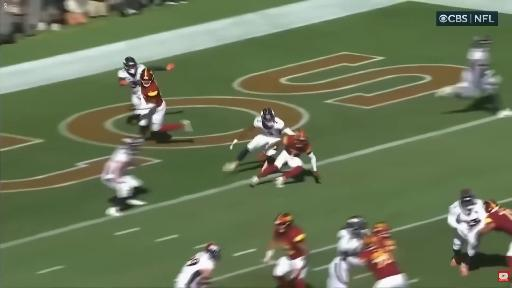Helmet: (346, 216, 367, 237), (459, 189, 475, 214), (275, 213, 293, 232), (122, 138, 144, 152), (123, 56, 137, 77), (372, 222, 391, 237), (261, 108, 274, 128), (205, 244, 221, 260), (472, 35, 491, 48), (141, 68, 154, 86), (122, 137, 144, 146), (484, 200, 499, 213), (477, 35, 491, 47), (295, 129, 307, 140)
Jersey: (360, 237, 401, 280), (175, 252, 215, 286), (465, 48, 496, 89), (448, 199, 486, 230), (273, 226, 305, 259), (102, 147, 132, 178), (118, 64, 145, 94), (337, 230, 363, 259), (486, 208, 511, 235), (254, 117, 284, 137), (283, 136, 311, 157), (141, 81, 163, 106), (467, 48, 490, 67)
Player: (436, 36, 511, 117), (223, 108, 293, 171), (251, 130, 319, 187), (138, 68, 192, 138), (101, 138, 146, 216), (448, 189, 486, 275), (264, 214, 308, 287), (327, 216, 367, 287), (359, 233, 408, 287), (175, 244, 221, 287), (118, 57, 145, 122), (479, 200, 511, 235), (373, 222, 391, 238)
